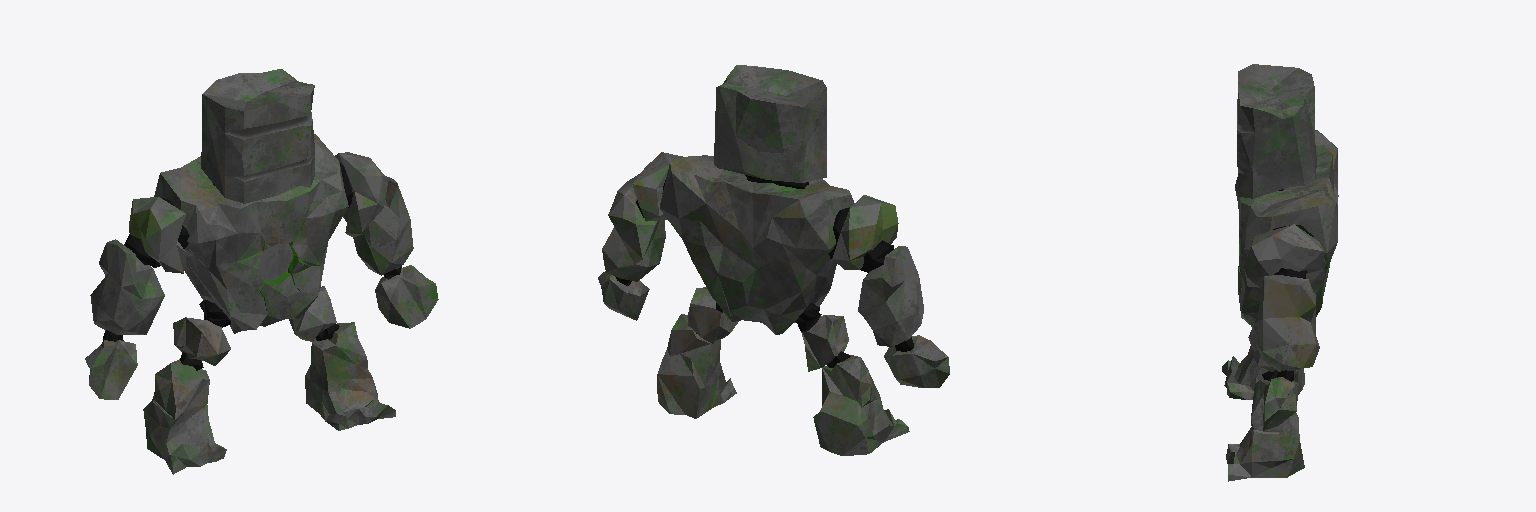
The picture shows the model from 3 angles: view 1: azimuth 30°, elevation 25°; view 2: azimuth 150°, elevation 25°; view 3: azimuth 270°, elevation 25°; orthographic projection.
Parts seen in each view (by area): view 1: CUERPO.007, ARTICULACIONES.007, DETALLES.007; view 2: CUERPO.007, ARTICULACIONES.007; view 3: CUERPO.007.
Part boxes in pixels (x1,y1,x2,y2): CUERPO.007: (85, 69, 438, 474); ARTICULACIONES.007: (103, 163, 401, 370); DETALLES.007: (258, 243, 293, 281); CUERPO.007: (598, 65, 949, 455); ARTICULACIONES.007: (615, 175, 913, 367); CUERPO.007: (1222, 64, 1338, 481).
Size of the model in its own units: 10.48 by 9.74 by 3.04.
Materials: 4 (1 with a texture image).